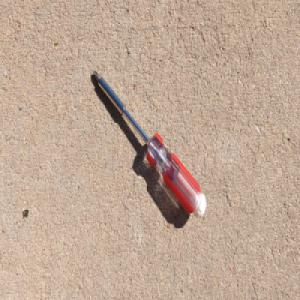Screwdriver: (91, 66, 209, 222)
